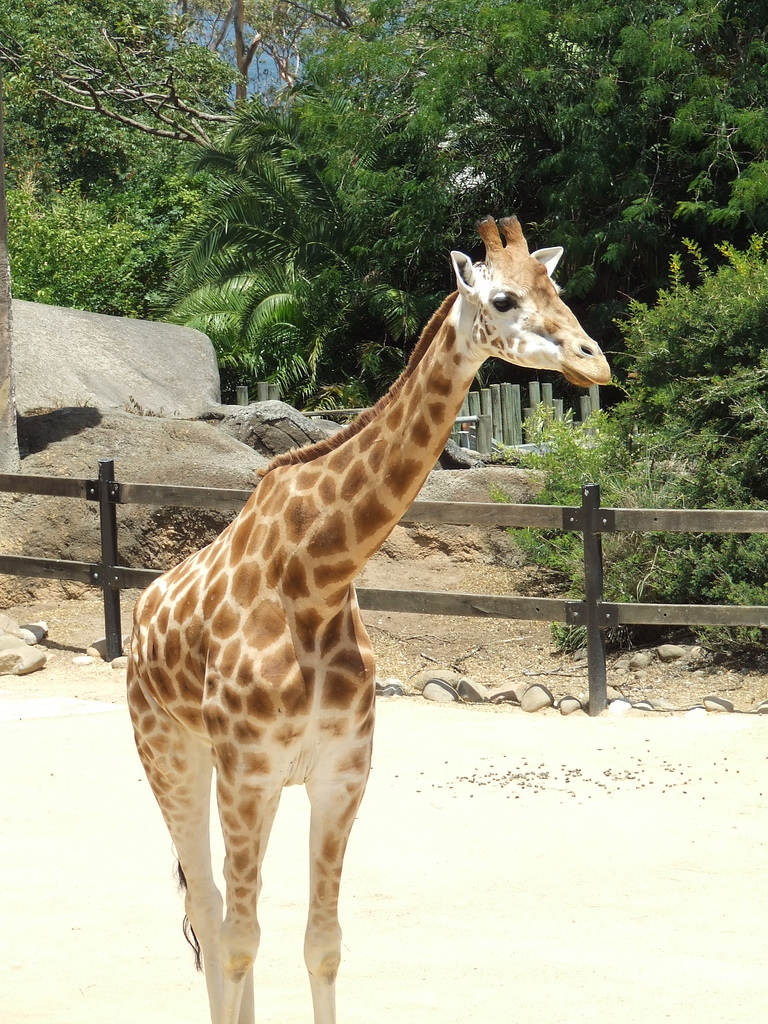giraffe: (96, 208, 621, 1017)
